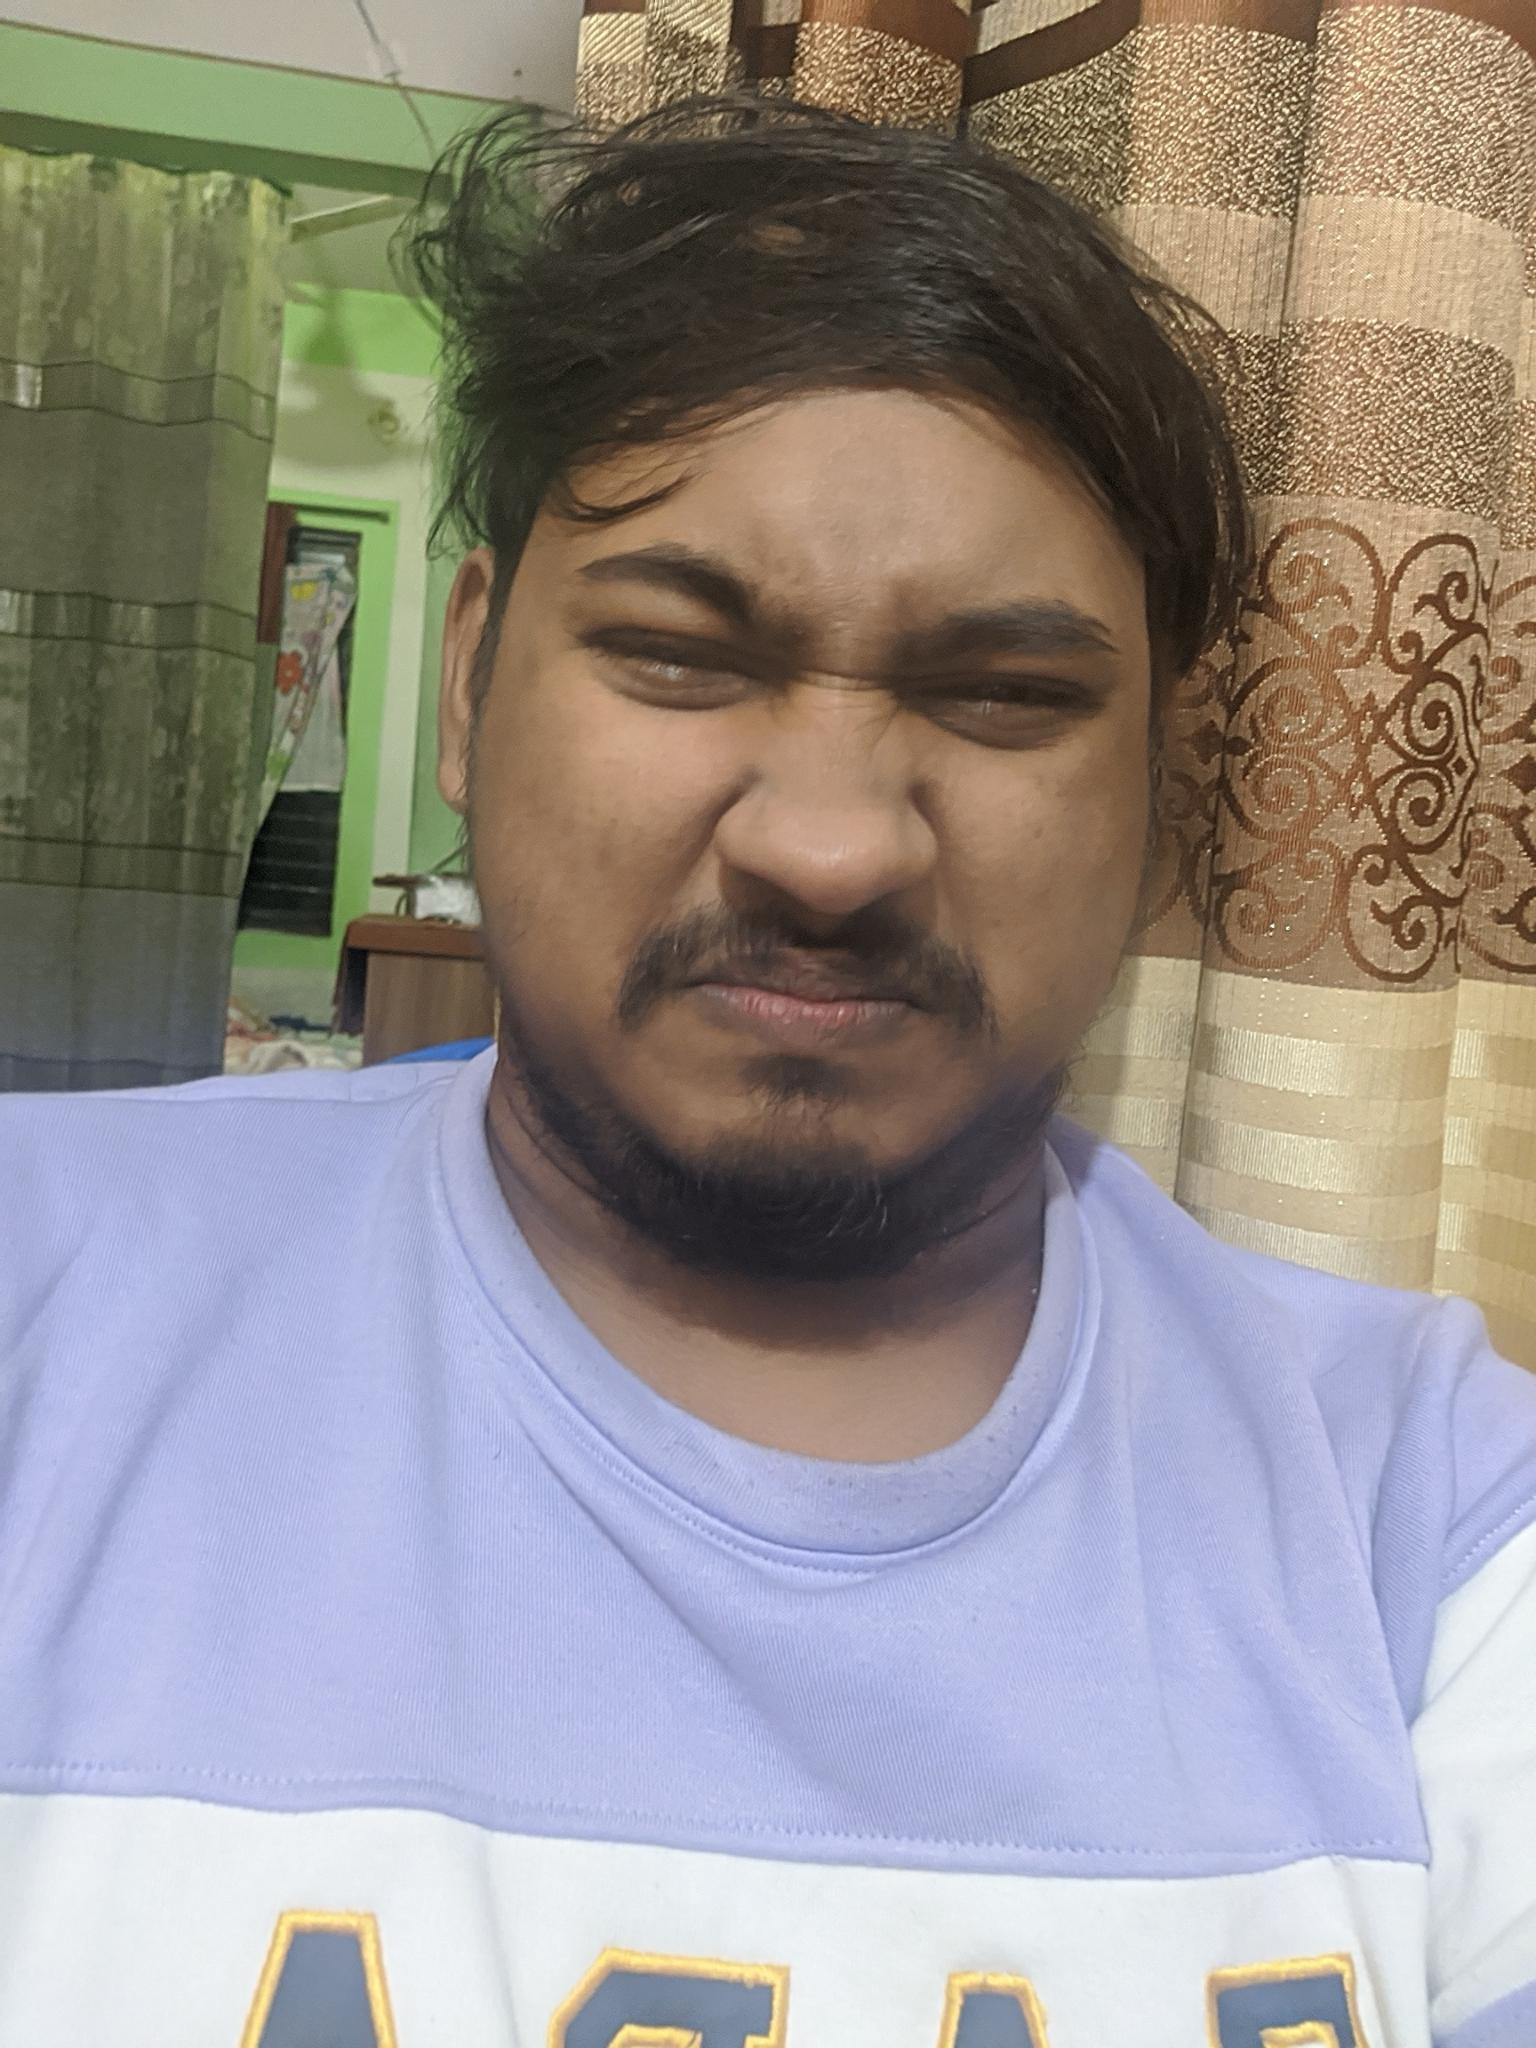Disgust: (508, 406, 1162, 1243)
